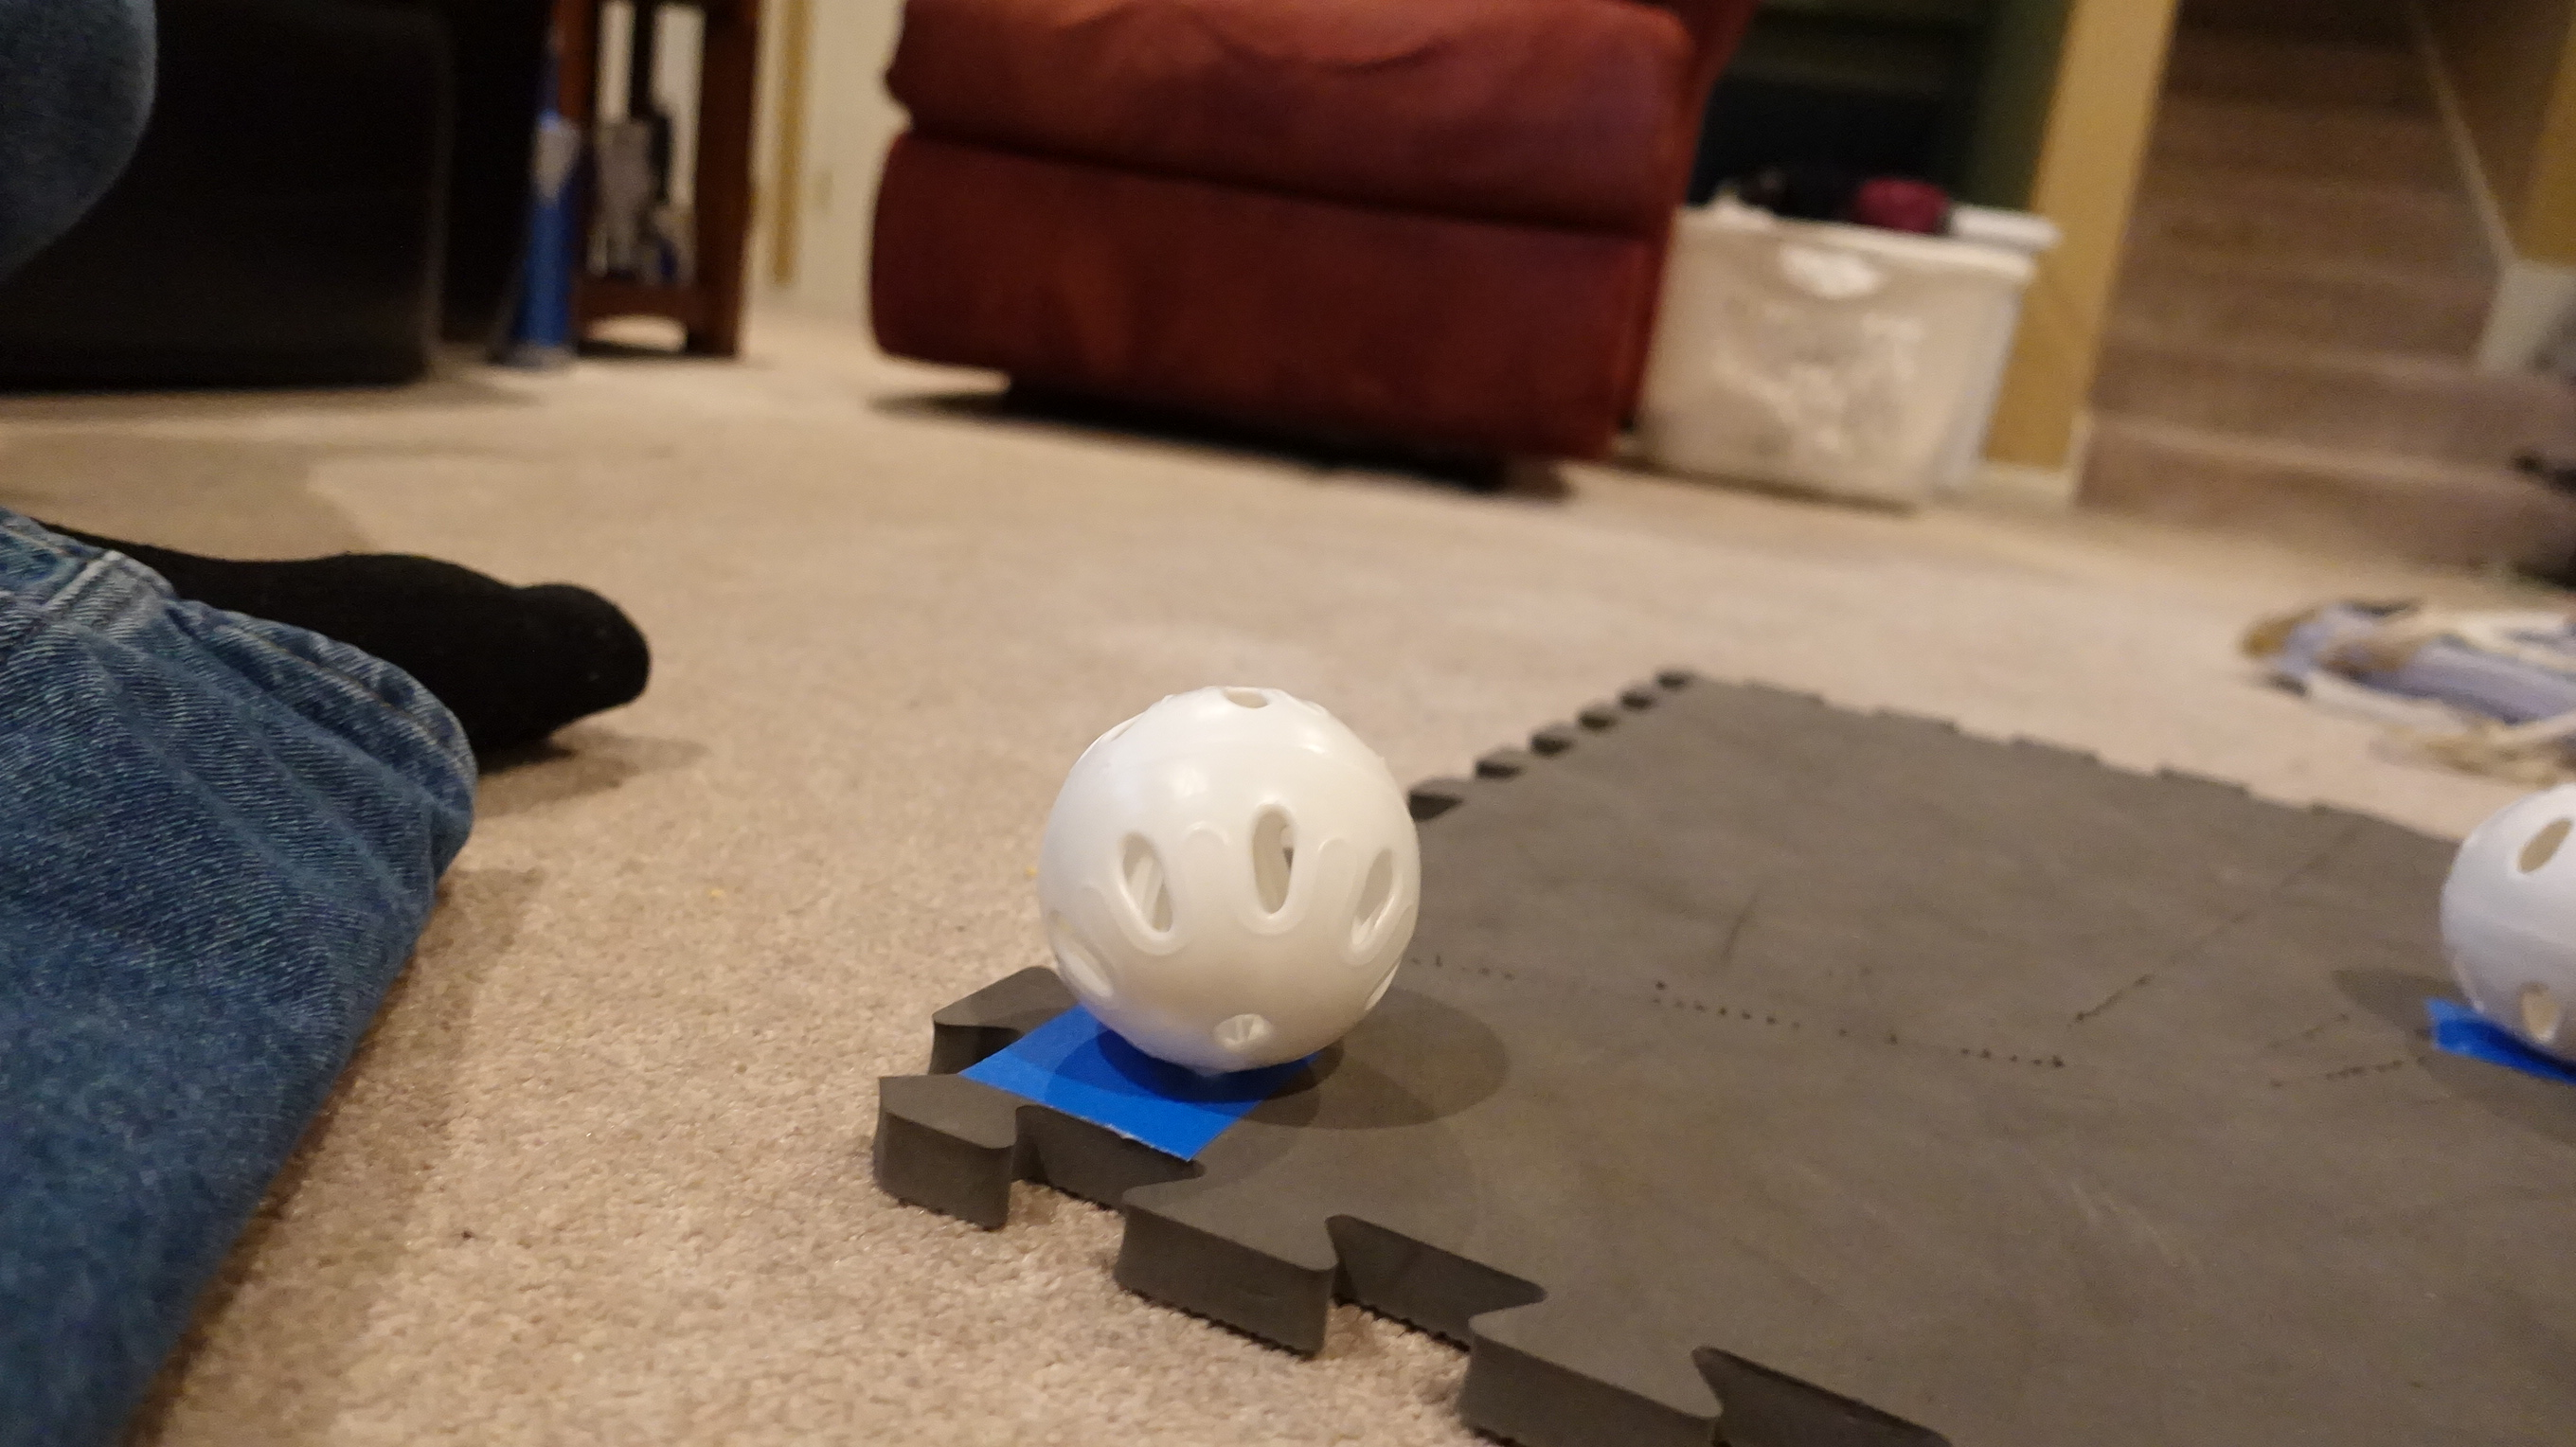silver: (1033, 686, 1430, 1076), (2442, 782, 2576, 1081)
